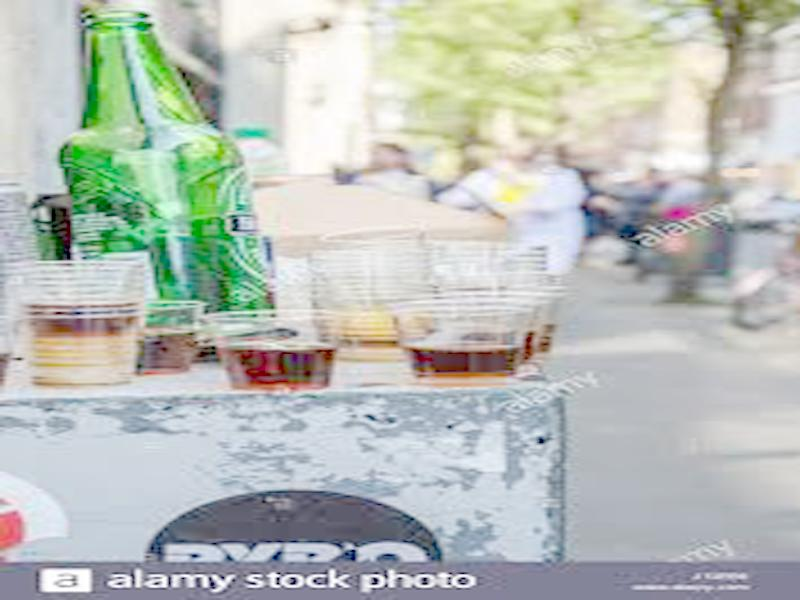Beer: (54, 11, 280, 354)
